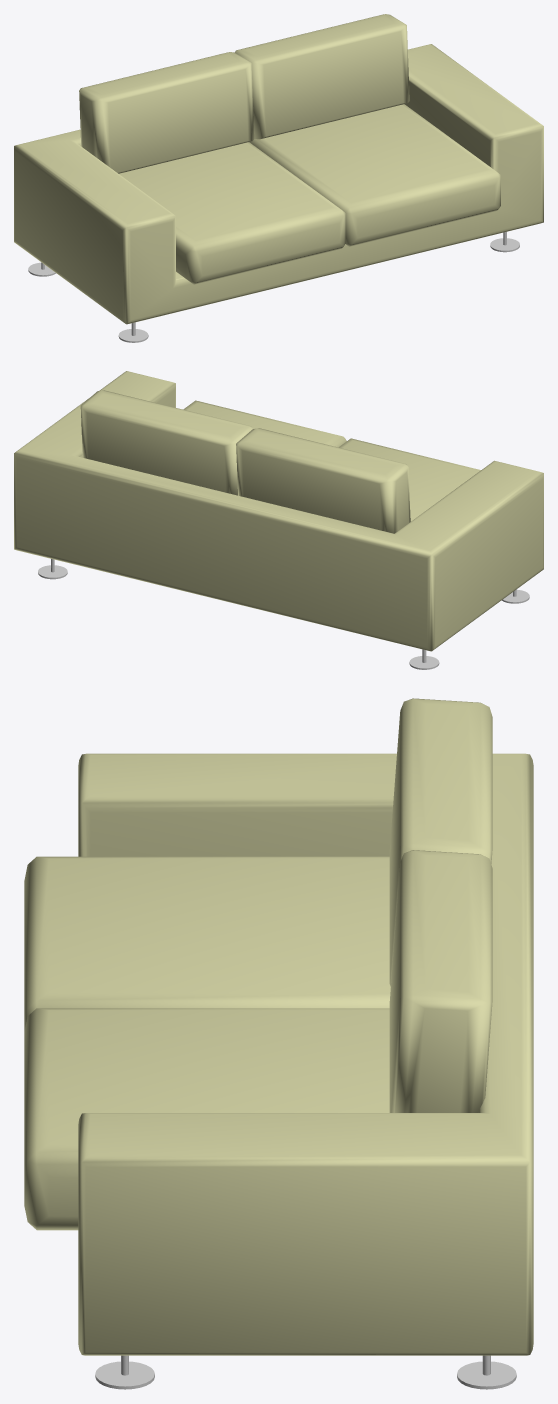
Rendered from couch.dae.
3 views of the same model, one above another, from view 1: azimuth 30°, elevation 25°; view 2: azimuth 150°, elevation 25°; view 3: azimuth 270°, elevation 25° (orthographic). The views are drawn at different scales.
Visible parts, largest first — view 1: Group_8 (×4), Group_5; view 2: Group_5, Group_8 (×4); view 3: Group_5, Group_8 (×4), base (×2).
Boxes of the visible parts, bbox=[...] form: Group_8 (×4): bbox=[79, 14, 500, 284]; Group_5: bbox=[14, 44, 543, 324]; Group_5: bbox=[14, 371, 543, 651]; Group_8 (×4): bbox=[80, 390, 480, 533]; Group_5: bbox=[78, 753, 533, 1355]; Group_8 (×4): bbox=[24, 698, 492, 1230]; base (×2): bbox=[95, 1361, 516, 1389].
Bounding box in the file's own units: 80.12 × 42.04 × 32.14.
